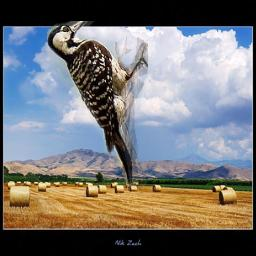Woodpecker: (47, 21, 148, 191)
